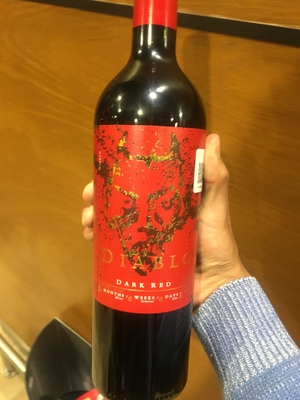diablo dark red: (86, 9, 221, 400)
